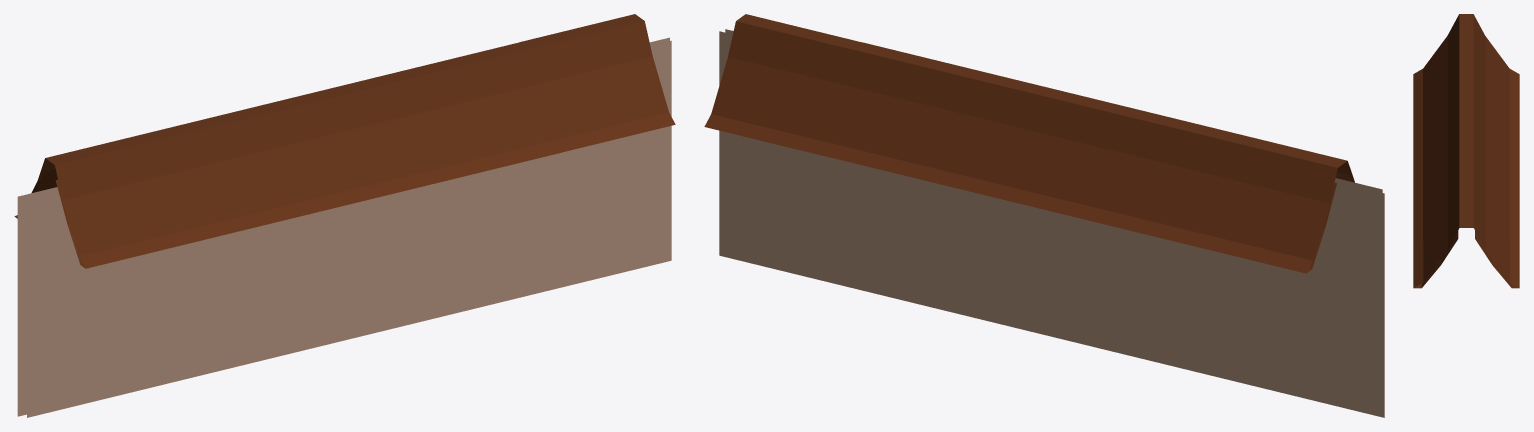
Rendered from Pared_Fueta.fbx.
The picture shows the model from 3 angles, left to right: view 1: azimuth 30°, elevation 25°; view 2: azimuth 150°, elevation 25°; view 3: azimuth 270°, elevation 25°; orthographic projection. The views are drawn at different scales.
Parts seen in each view (by area): view 1: polySurface1039; view 2: polySurface1039; view 3: polySurface1039.
Part boxes in pixels (x1,y1,x2,y2): polySurface1039: (14,14,675,417); polySurface1039: (704,14,1384,417); polySurface1039: (1413,14,1519,288).
Size of the model in its own units: 105 by 37.39 by 19.99.
